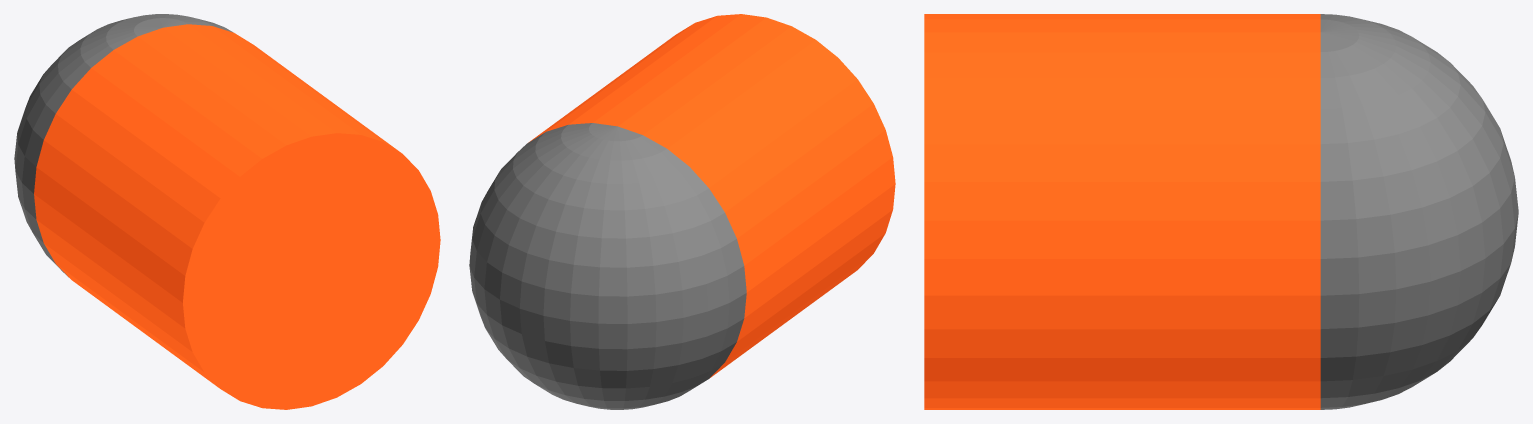
The model's file is cannon_bullet.glb.
3 views of the same model, side by side, from view 1: azimuth 30°, elevation 25°; view 2: azimuth 150°, elevation 25°; view 3: azimuth 270°, elevation 25° (orthographic). The views are drawn at different scales.
Parts seen in each view (by area): view 1: Cylinder, Sphere; view 2: Sphere, Cylinder; view 3: Cylinder, Sphere.
Part boxes in pixels (<box>): Cylinder: <box>34,24,440,409</box>; Sphere: <box>14,14,233,277</box>; Sphere: <box>469,123,746,409</box>; Cylinder: <box>528,14,895,377</box>; Cylinder: <box>924,14,1320,409</box>; Sphere: <box>1320,14,1518,409</box>.
Bounding box in the file's own units: 2 × 2 × 3.
